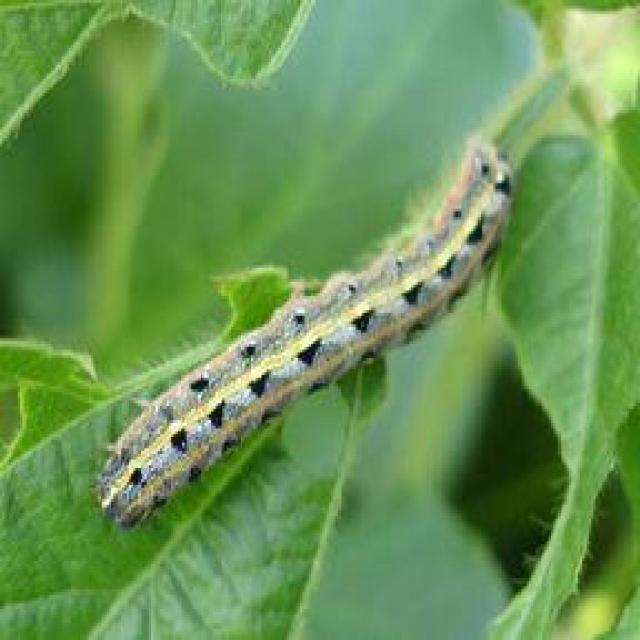Plaga: (83, 128, 528, 534)
